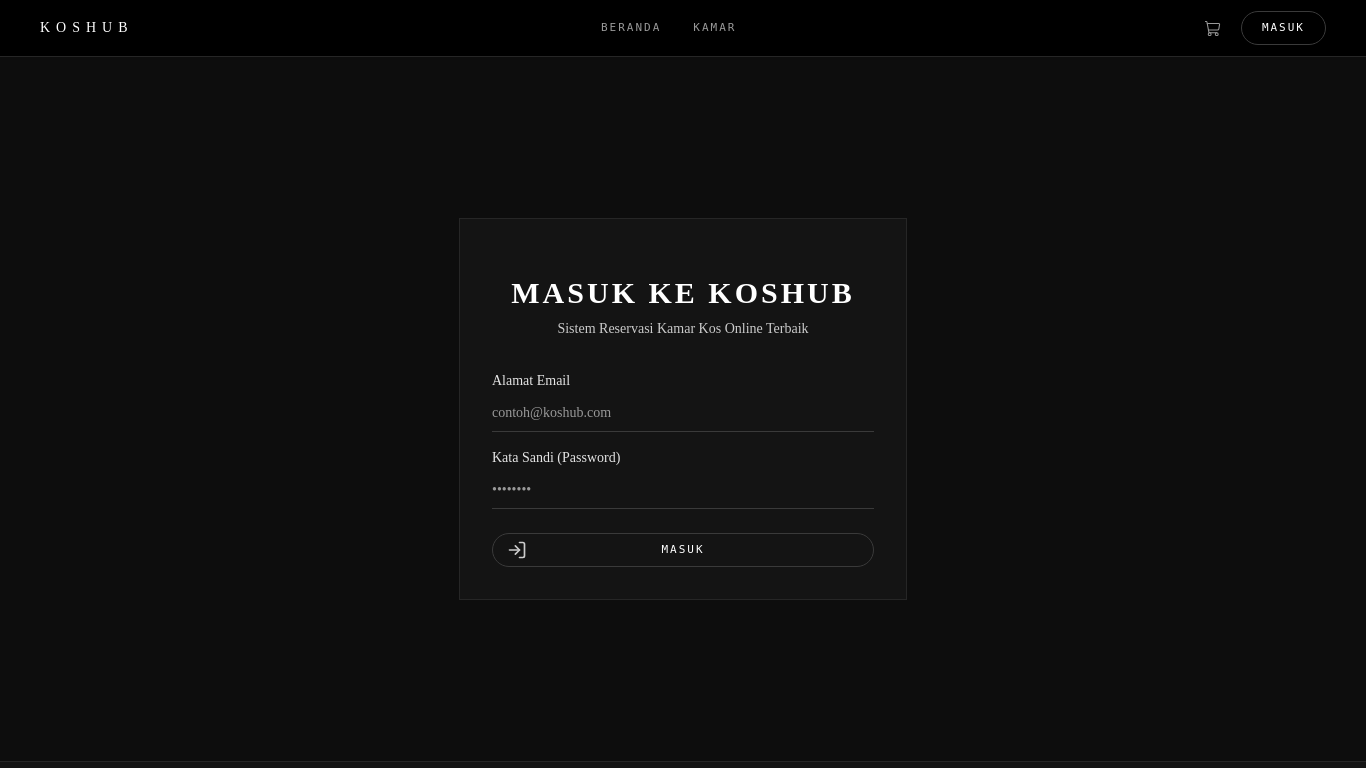
it: KosHub UI Automation Tests › 1. Login Fail - Empty fields show validation error
This screenshot has width=1366, height=768.
Click the submit button: (683, 550) [492, 533, 874, 567]
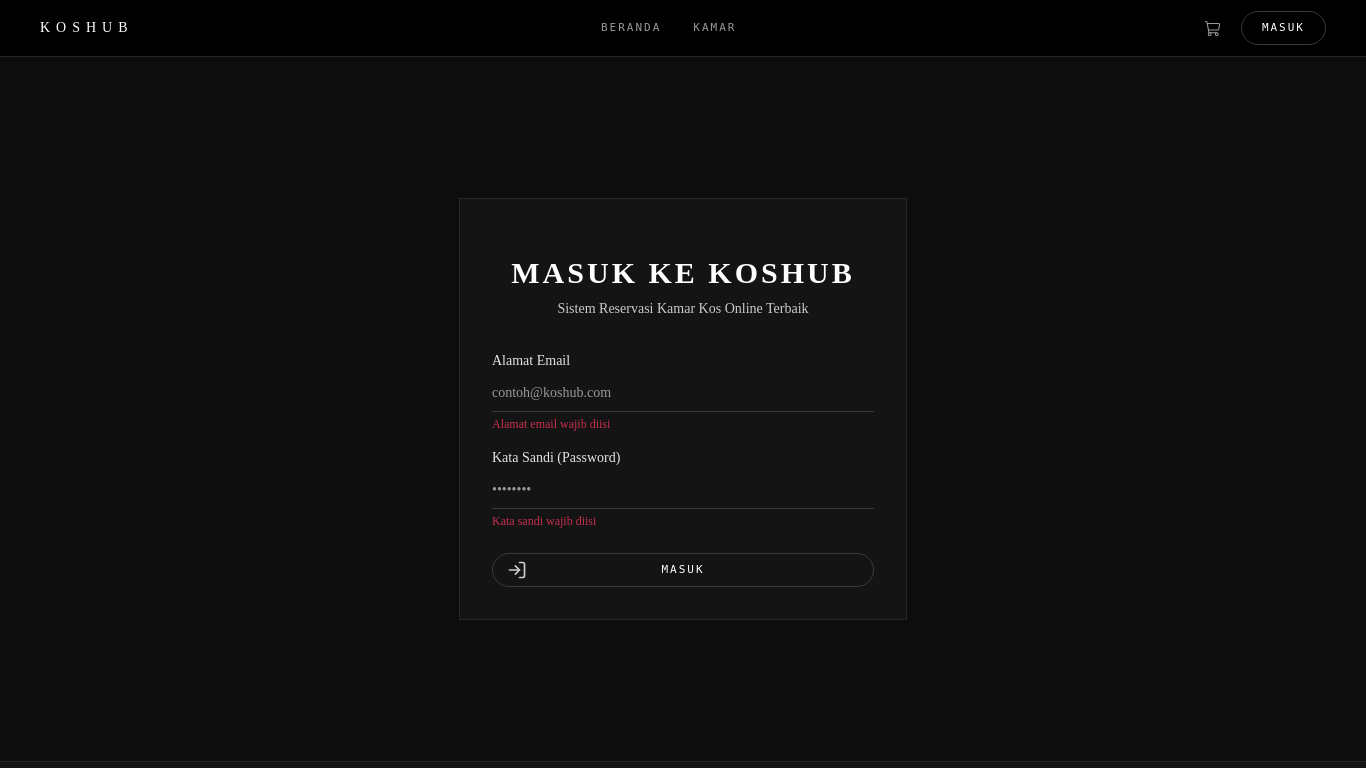
Expected: the text "Alamat email wajib diisi" is shown, [492, 417, 610, 431]
Expected: the text "Kata sandi wajib diisi" is shown, [492, 514, 596, 528]
